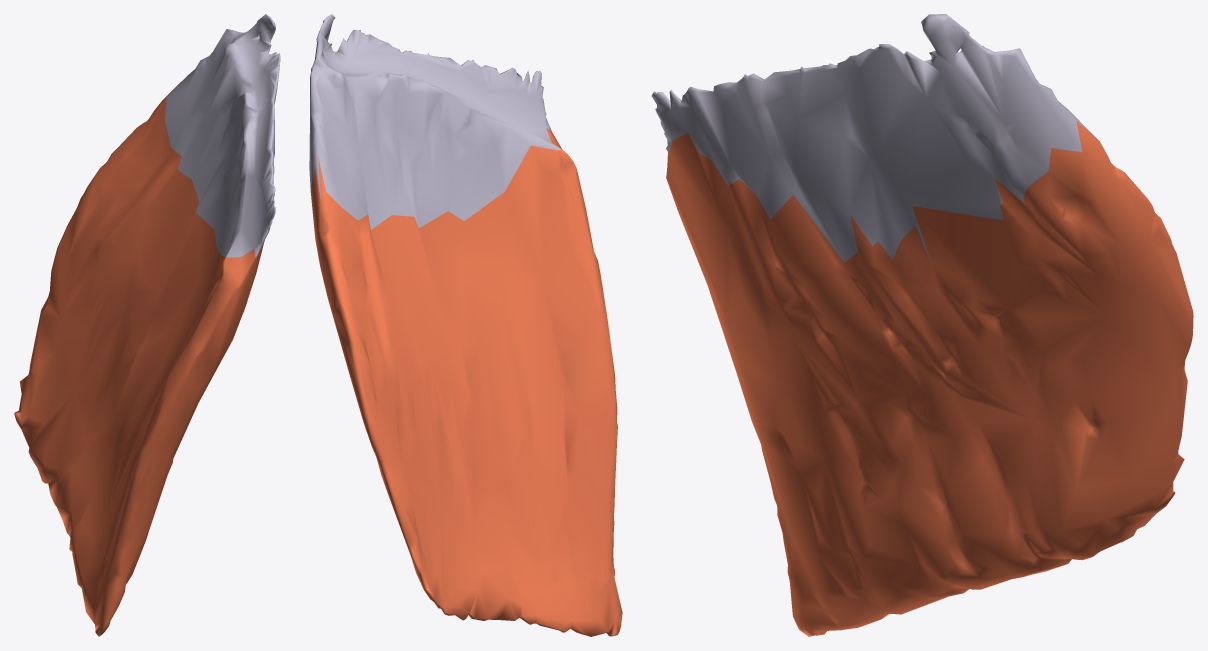
File: Masseter_superficial_part_left.glb
3 views of the same model, side by side, from view 1: azimuth 30°, elevation 25°; view 2: azimuth 150°, elevation 25°; view 3: azimuth 270°, elevation 25° (orthographic). The views are drawn at different scales.
Visible parts, largest first — view 1: Superficial_part_of_masseter.l_Generated_Mesh_From_X3D.180; view 2: Superficial_part_of_masseter.l_Generated_Mesh_From_X3D.180; view 3: Superficial_part_of_masseter.l_Generated_Mesh_From_X3D.180.
Part boxes in pixels (x1,y1,x2,y2): Superficial_part_of_masseter.l_Generated_Mesh_From_X3D.180: [14, 14, 280, 636]; Superficial_part_of_masseter.l_Generated_Mesh_From_X3D.180: [309, 14, 622, 636]; Superficial_part_of_masseter.l_Generated_Mesh_From_X3D.180: [651, 14, 1193, 636].
Bounding box in the file's own units: 0.0266 × 0.0622 × 0.0395.
